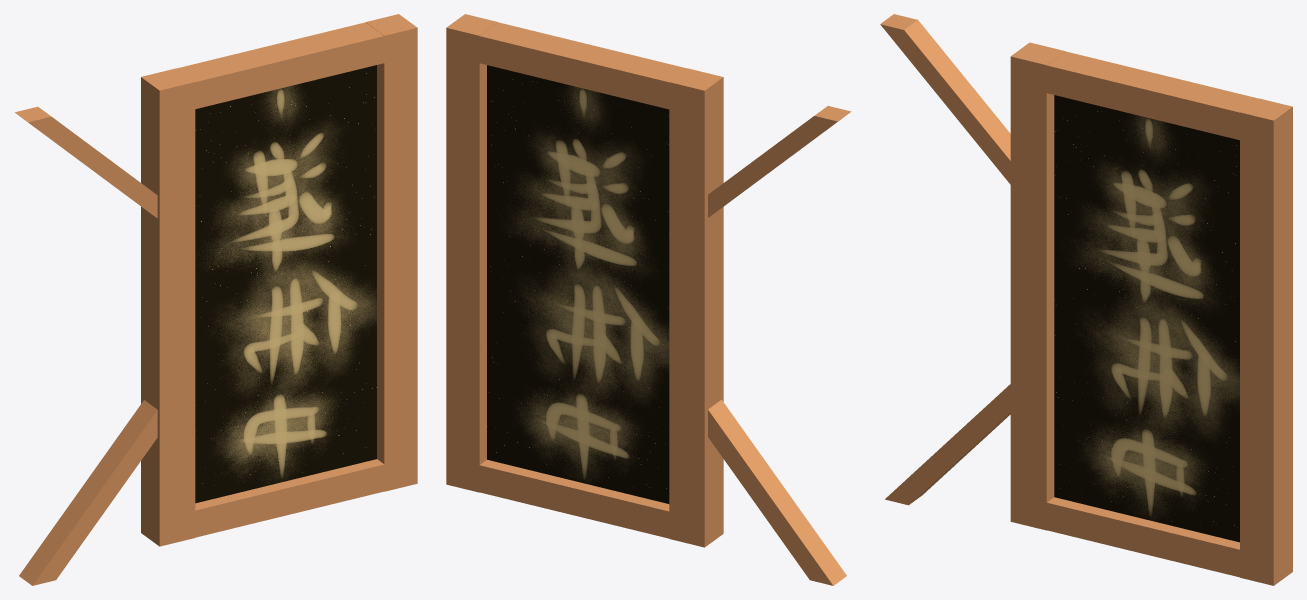
File: sign2.fbx
The picture shows the model from 3 angles, left to right: view 1: azimuth 30°, elevation 25°; view 2: azimuth 150°, elevation 25°; view 3: azimuth 330°, elevation 25°; orthographic projection. The views are drawn at different scales.
Parts seen in each view (by area): view 1: Cube.005; view 2: Cube.005; view 3: Cube.005.
Part boxes in pixels (x1,y1,x2,y2): Cube.005: [15, 14, 417, 585]; Cube.005: [446, 14, 851, 585]; Cube.005: [880, 14, 1292, 585].
Size of the model in its own units: 293 by 337 by 24.56.
